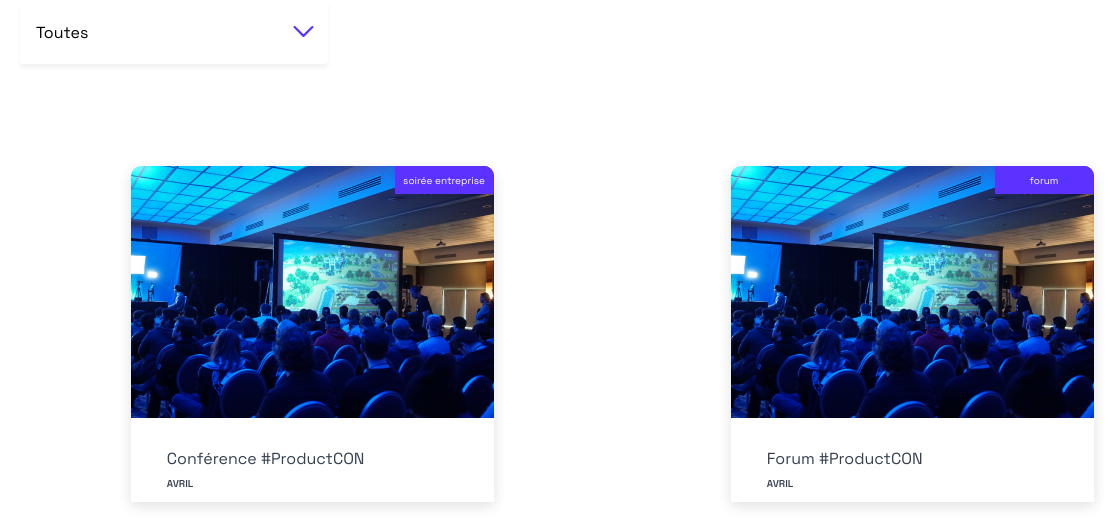
Test case: When Events is created › and we select a category › an filtered list is displayed
Expected: the text "Forum #productCON" is shown, [767,448,922,469]
Click the button with test id "collapse-button-testid" at (304, 32), box [287,16,320,48]
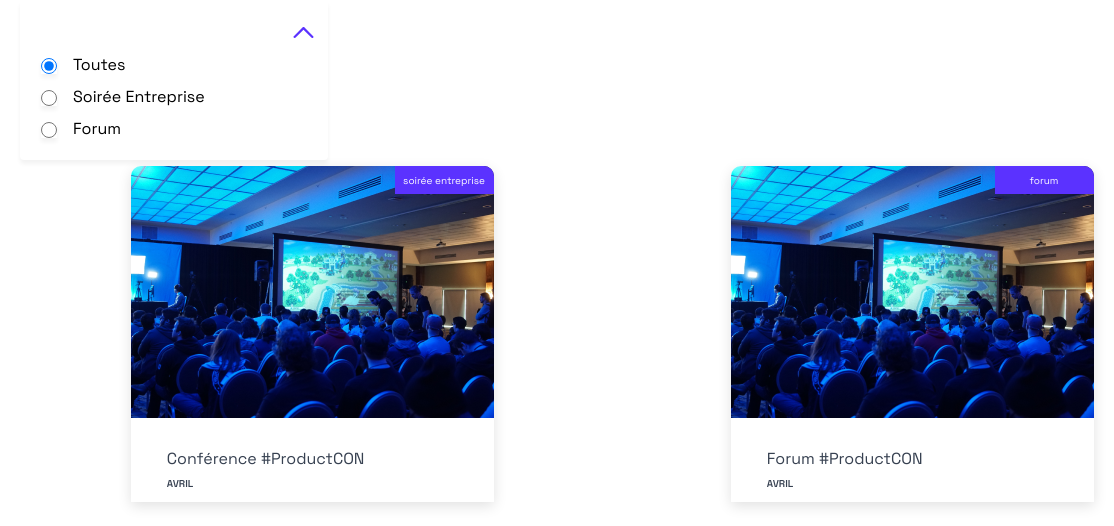
Click the list item "soirée entreprise" at (123, 96), box [41,86,205,107]
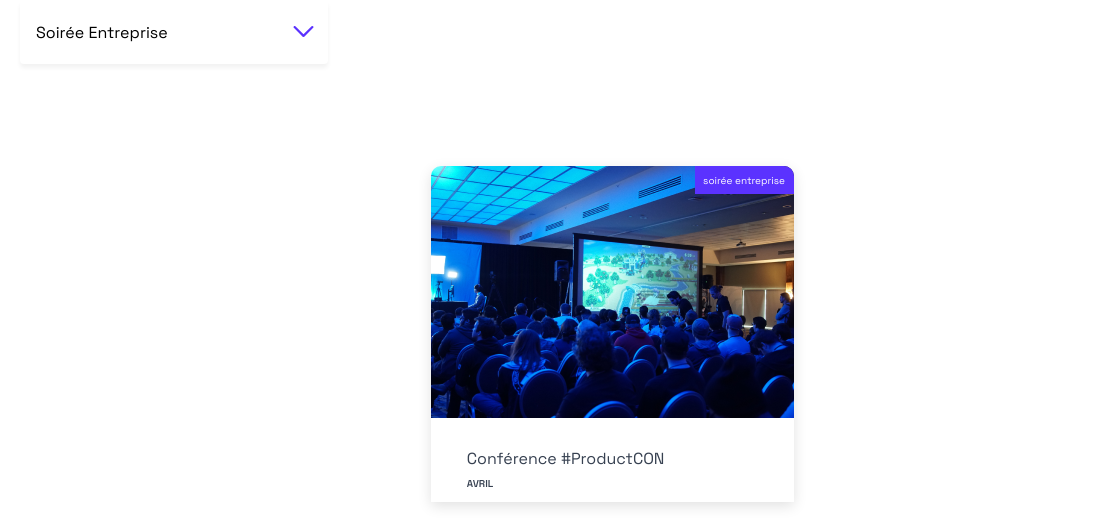
Expected: the text "Forum #productCON" is gone
